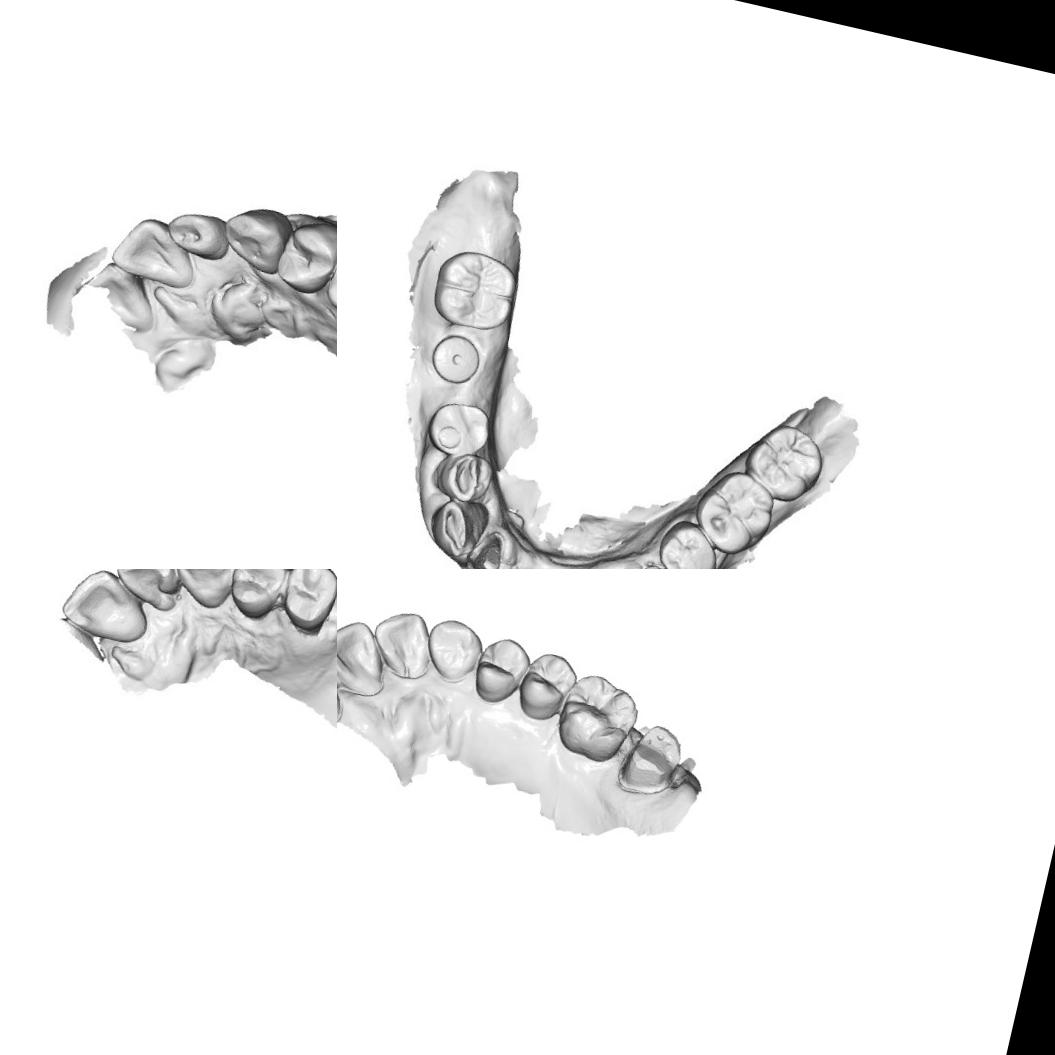canine: (218, 198, 296, 277), (419, 614, 489, 688), (424, 494, 484, 560), (167, 569, 244, 612)
crown: (612, 717, 690, 802), (469, 529, 514, 569)
implant: (427, 328, 488, 391)
incisor: (109, 212, 204, 298), (56, 569, 157, 648), (364, 604, 442, 684), (337, 612, 399, 701), (163, 207, 226, 261), (110, 569, 190, 611)
molar: (549, 667, 646, 770), (428, 243, 524, 338), (689, 466, 781, 558), (745, 420, 826, 503)
premolar: (512, 646, 582, 727), (272, 214, 337, 301), (468, 631, 536, 712), (427, 395, 494, 460), (273, 569, 337, 637), (433, 443, 498, 509), (220, 569, 293, 625), (657, 521, 723, 569), (314, 236, 337, 324)
